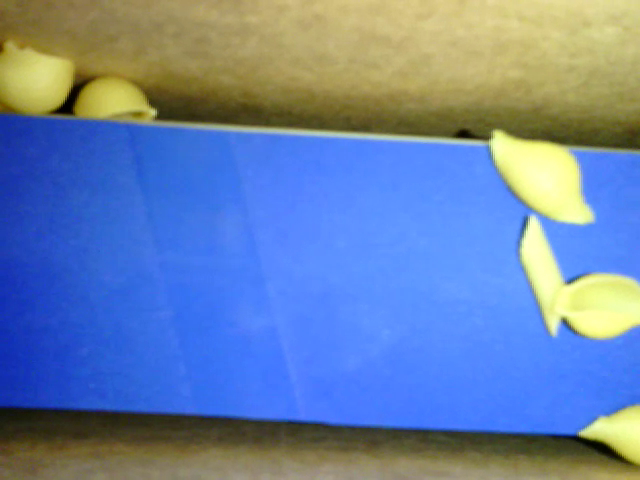penne: (510, 213, 565, 336)
shell: (486, 128, 595, 224), (549, 262, 639, 342), (1, 38, 80, 116), (69, 76, 158, 126), (573, 400, 639, 467)
